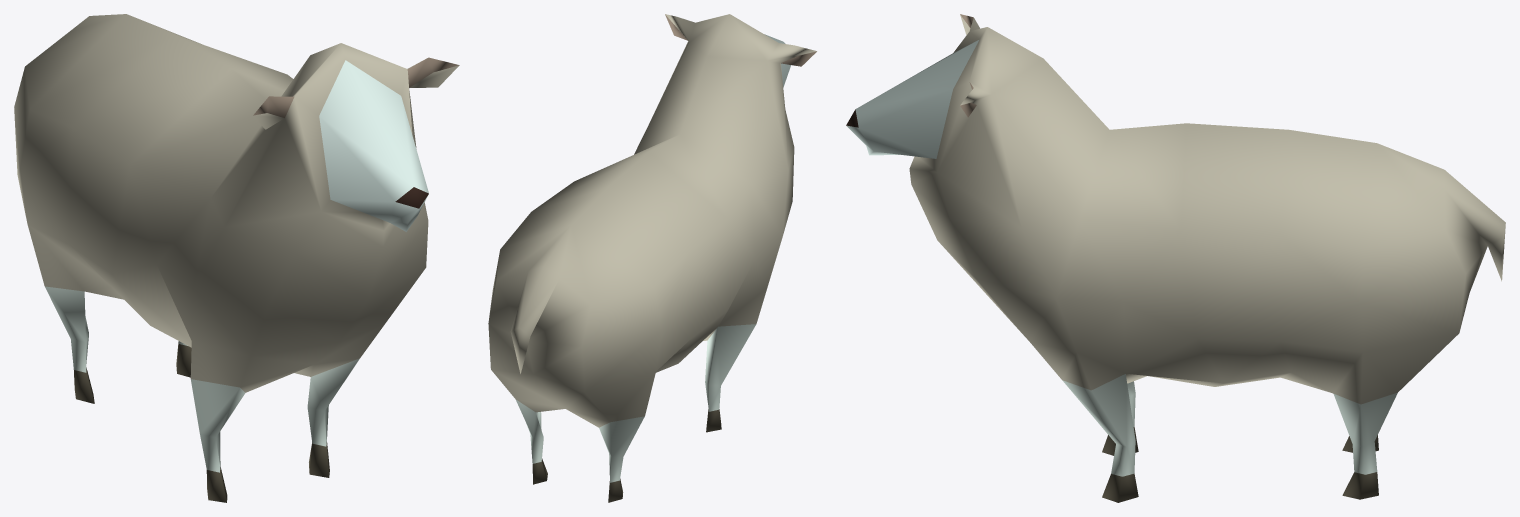
Rendered from sheep-ver3.glb.
3 renders of one model, left to right at view 1: azimuth 30°, elevation 25°; view 2: azimuth 150°, elevation 25°; view 3: azimuth 270°, elevation 25°, orthographic. The views are drawn at different scales.
Parts seen in each view (by area): view 1: Sheep-ver3_Texture-base_0; view 2: Sheep-ver3_Texture-base_0; view 3: Sheep-ver3_Texture-base_0.
Boxes of the visible parts, <box> form: Sheep-ver3_Texture-base_0: <box>14,14,459,502</box>; Sheep-ver3_Texture-base_0: <box>488,14,816,502</box>; Sheep-ver3_Texture-base_0: <box>846,14,1505,502</box>.
Bounding box in the file's own units: 0.4199 × 0.8672 × 1.15.
Materials: 1 (1 with a texture image).
